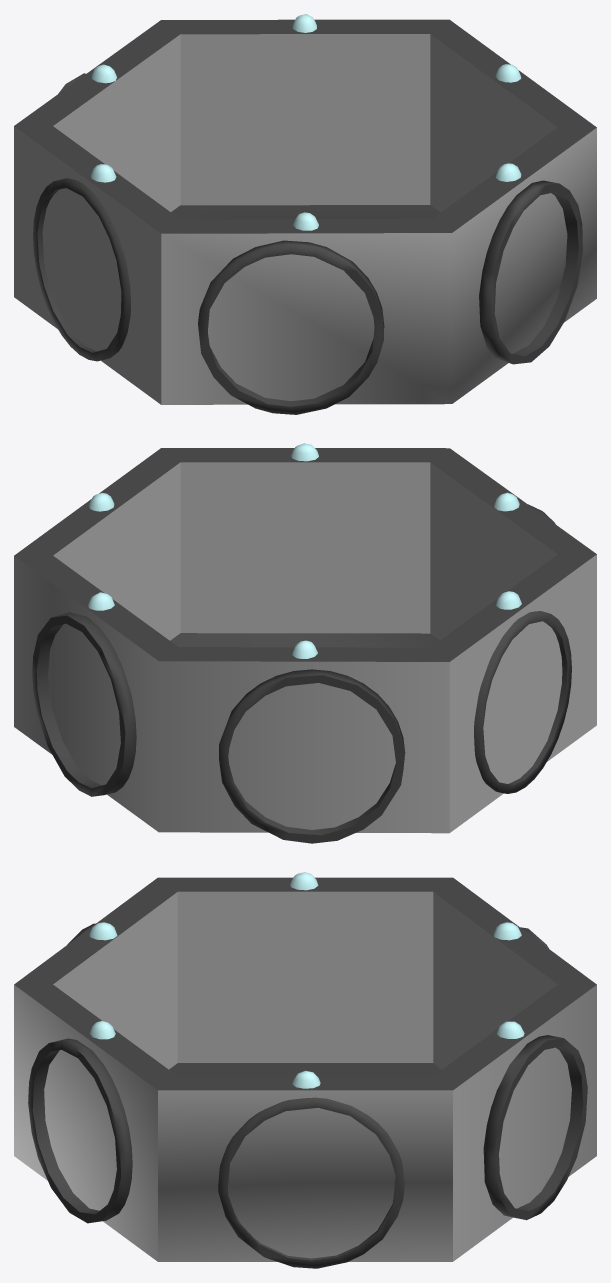
The picture shows the model from 3 angles, top to bottom: view 1: azimuth 30°, elevation 25°; view 2: azimuth 150°, elevation 25°; view 3: azimuth 270°, elevation 25°; orthographic projection.
Parts seen in each view (by area): view 1: Base; view 2: Base; view 3: Base.
Part boxes in pixels (<box>): Base: <box>14,14,596,414</box>; Base: <box>14,443,596,843</box>; Base: <box>14,872,596,1268</box>.
Bounding box in the file's own units: 86.37 × 34.78 × 97.8.
1 material, 1 textured.
